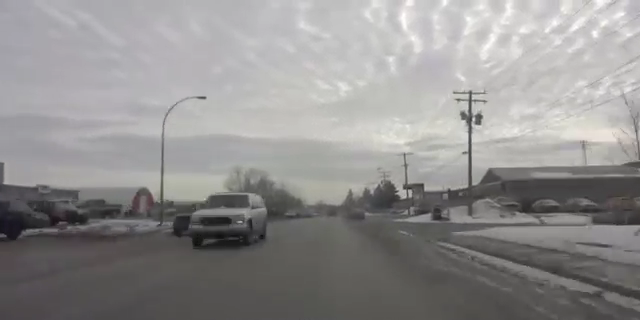car: (188, 192, 268, 246)
